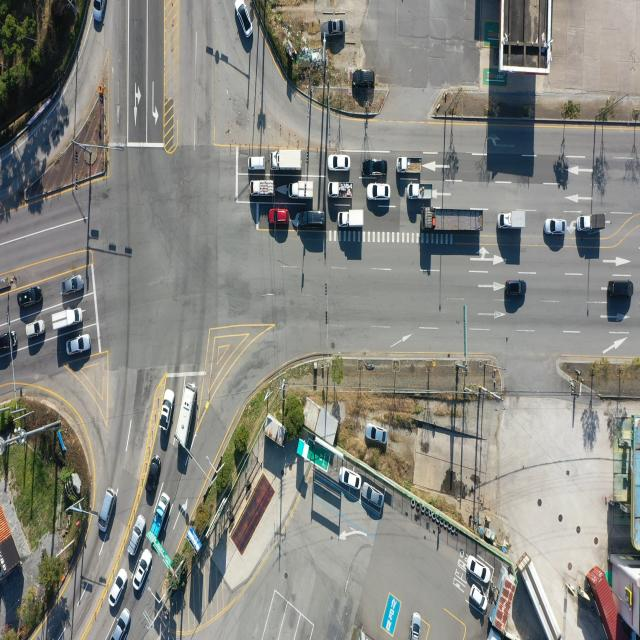car: (128, 513, 147, 556), (134, 548, 152, 590), (145, 456, 161, 503), (98, 490, 115, 534), (160, 390, 176, 436), (109, 568, 128, 606), (112, 607, 132, 640), (233, 0, 250, 38), (298, 210, 326, 232), (469, 558, 492, 584), (66, 336, 90, 357), (472, 582, 490, 610), (362, 484, 383, 508), (18, 287, 42, 307), (342, 469, 362, 492), (610, 280, 635, 298), (62, 275, 84, 295), (364, 424, 387, 443), (351, 68, 375, 86), (365, 157, 386, 176), (329, 156, 352, 173), (0, 327, 16, 351), (367, 183, 389, 200), (507, 280, 528, 297), (26, 320, 45, 338), (544, 218, 565, 234), (270, 208, 291, 224), (410, 613, 422, 640), (326, 20, 345, 37), (94, 0, 106, 23), (249, 157, 266, 172)
medium_truck: (523, 555, 563, 638), (425, 211, 484, 232), (272, 148, 303, 171)
small_bus: (178, 383, 200, 448)
small_truck: (150, 492, 170, 540), (52, 307, 84, 331), (575, 214, 604, 233), (498, 210, 526, 229), (339, 210, 366, 229), (409, 182, 435, 201), (327, 180, 353, 198), (290, 180, 314, 199), (396, 157, 422, 174), (250, 179, 274, 196)
